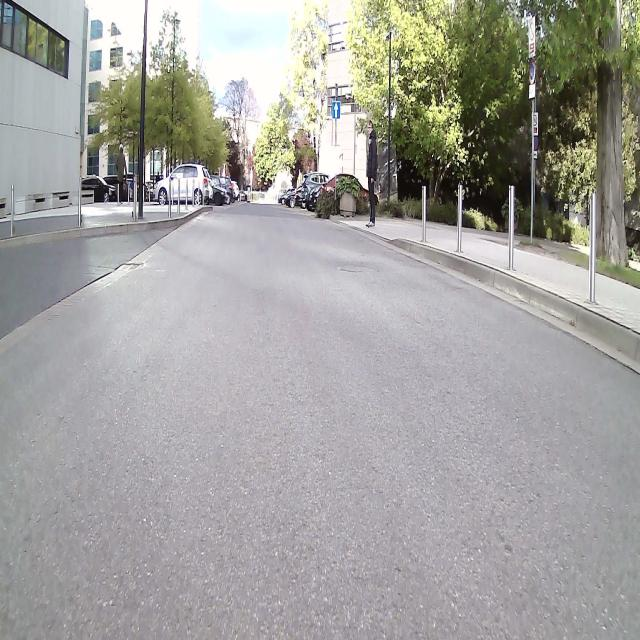bollards: (588, 190, 600, 307), (507, 179, 518, 273), (420, 183, 430, 246), (10, 180, 17, 234), (457, 179, 462, 254), (78, 172, 82, 229)
car: (150, 153, 212, 206)
person: (364, 116, 378, 230), (115, 139, 128, 206)
